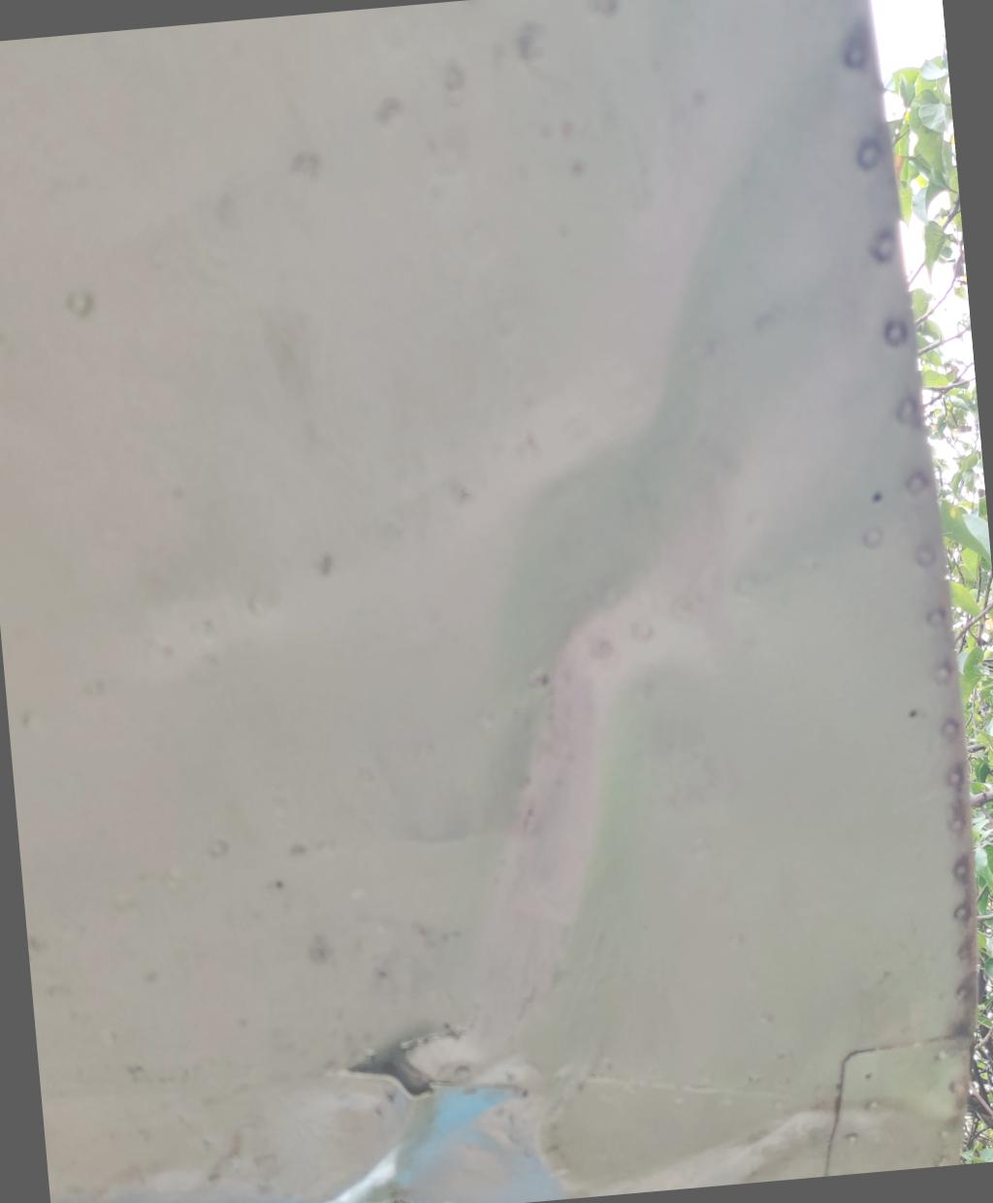crack: (386, 1003, 480, 1086)
dent: (350, 16, 983, 1029), (153, 985, 604, 1203), (587, 1065, 950, 1197)
